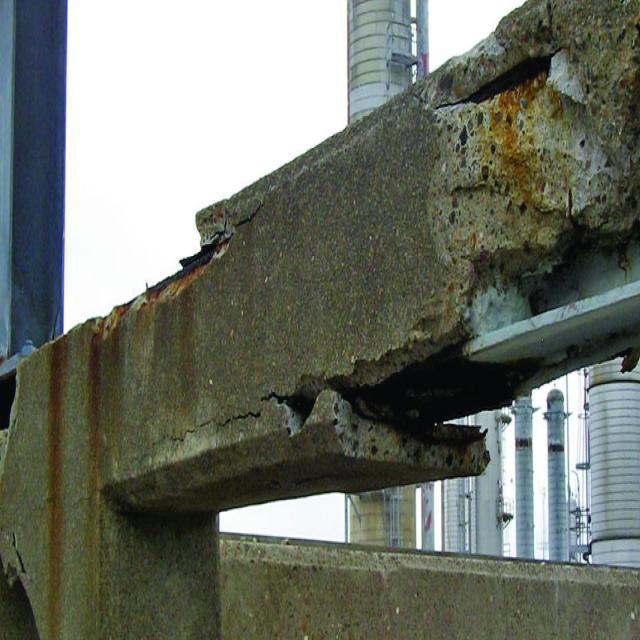spalling: (261, 0, 639, 472)
